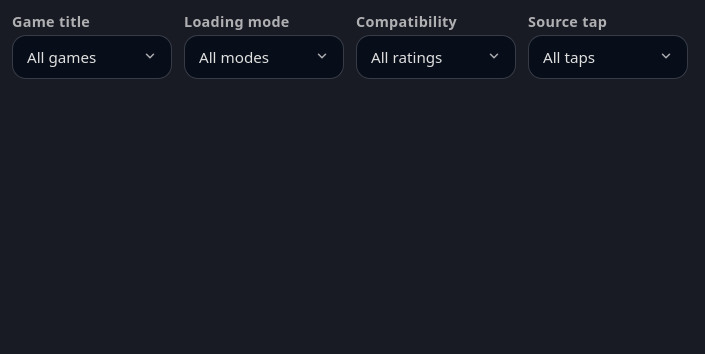
Test case: DiscoveryFacetBar › fixed loading mode and rating menus include absent values at zero
The width and height of the screenshot is (705, 354).
Click the dropdown named "Loading mode" at [264, 57], box [184,35,344,79]
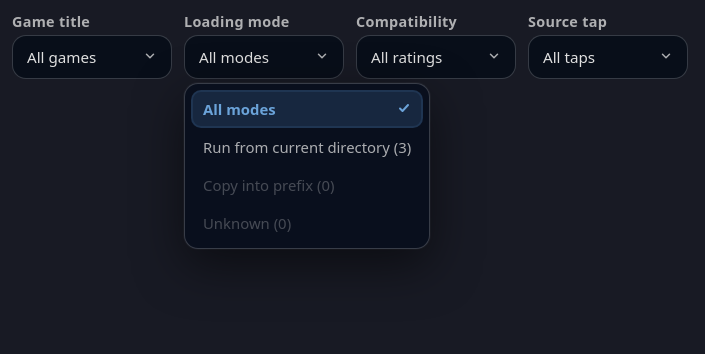
Now the option "Run from current directory (3)" is shown, box [203,137,411,157]
Press Escape
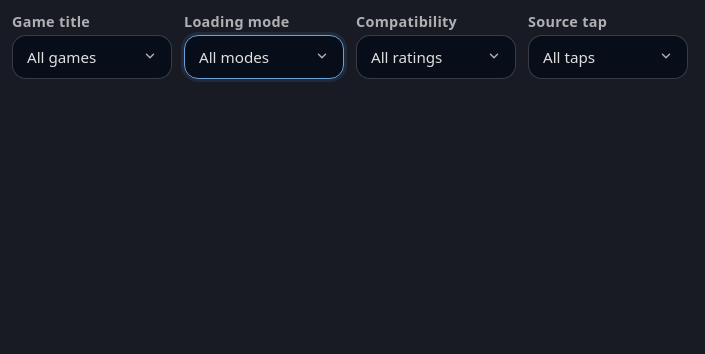
Click the dropdown named "Compatibility" at [436, 57], box [356,35,516,79]
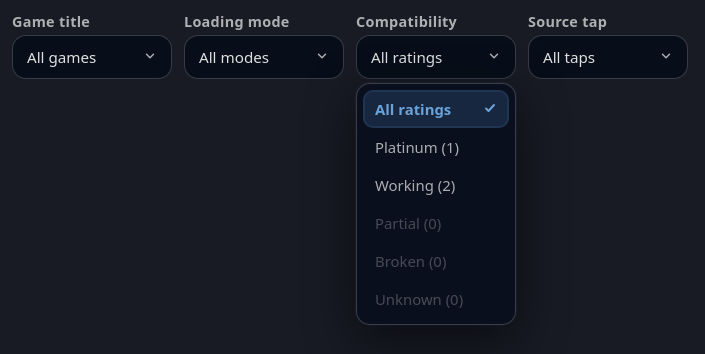
Now the option "Working (2)" is shown, box [375,175,455,195]
Now the option "Platinum (1)" is shown, box [375,137,459,157]
